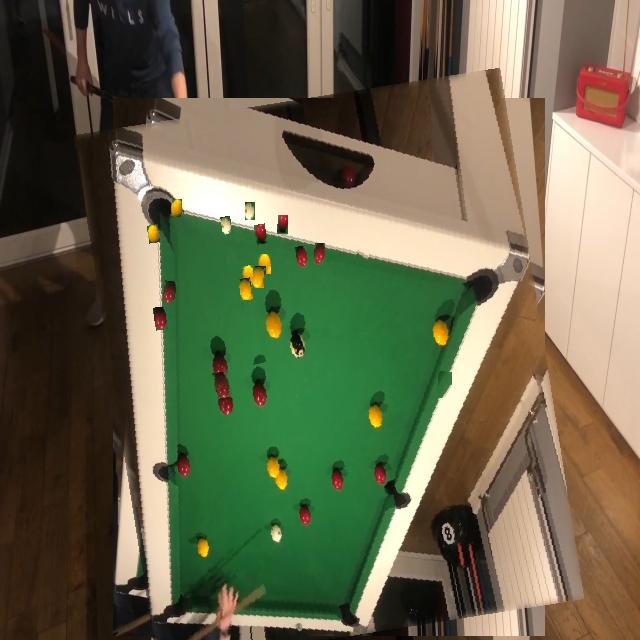Ball: (247, 338, 265, 365), (213, 371, 230, 399), (273, 404, 290, 432), (294, 381, 309, 407), (438, 371, 452, 398), (356, 242, 370, 265), (163, 281, 177, 304), (361, 300, 374, 324), (253, 266, 265, 288), (258, 254, 271, 274), (314, 243, 325, 265), (277, 216, 288, 236), (171, 199, 182, 217), (245, 202, 255, 220)
Billiard table: (93, 82, 564, 640)
